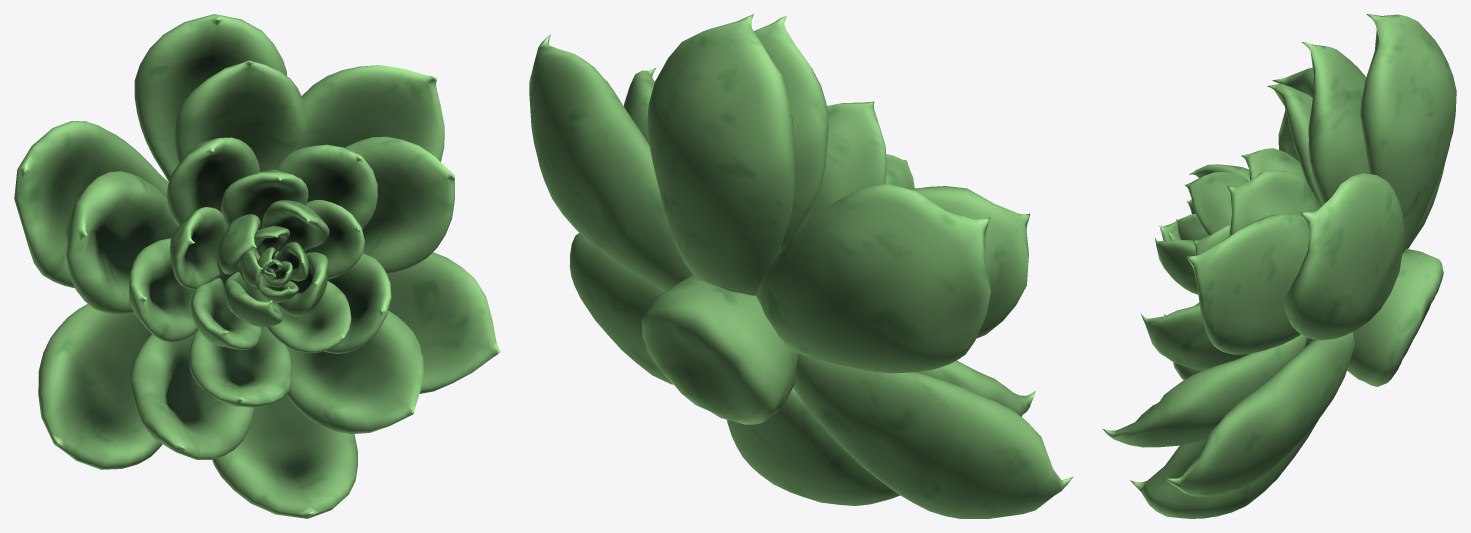
3 renders of one model, left to right at view 1: azimuth 30°, elevation 25°; view 2: azimuth 150°, elevation 25°; view 3: azimuth 270°, elevation 25°, orthographic. The views are drawn at different scales.
Visible parts, largest first — view 1: sansevieriaplant.009; view 2: sansevieriaplant.009; view 3: sansevieriaplant.009.
Part boxes in pixels (x1=…): sansevieriaplant.009: x1=14, y1=14, x2=500, y2=518; sansevieriaplant.009: x1=529, y1=14, x2=1072, y2=518; sansevieriaplant.009: x1=1103, y1=14, x2=1456, y2=518.
Bounding box in the file's own units: 1.22 × 1.24 × 0.8086.
1 material, 1 textured.
